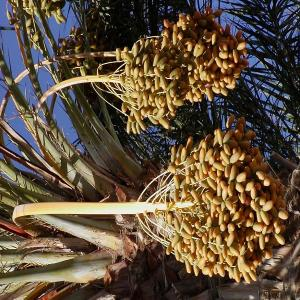palm tree: (0, 1, 296, 296)
